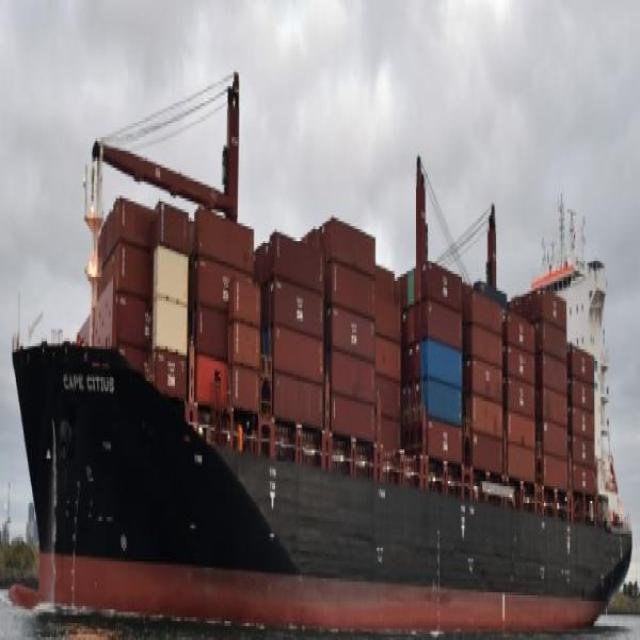Container Ship: (0, 62, 636, 640)
